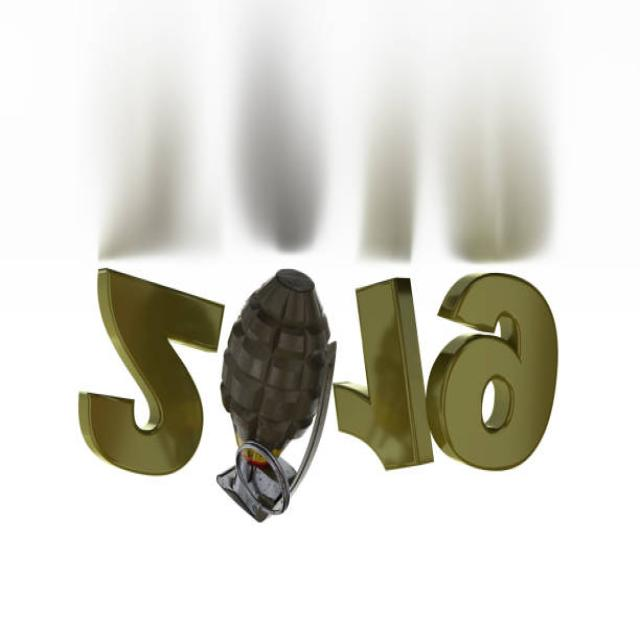grenade: (216, 265, 343, 526)
